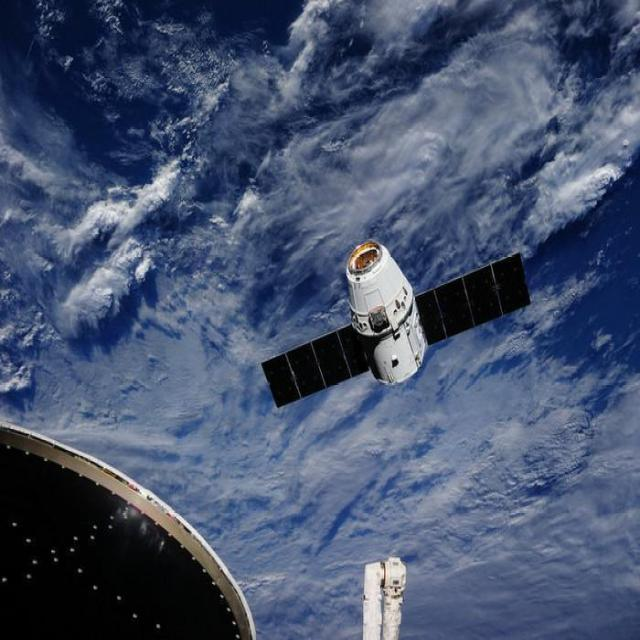large_debris: (0, 424, 255, 640), (364, 558, 406, 640)
medium_debris: (262, 241, 531, 407)
